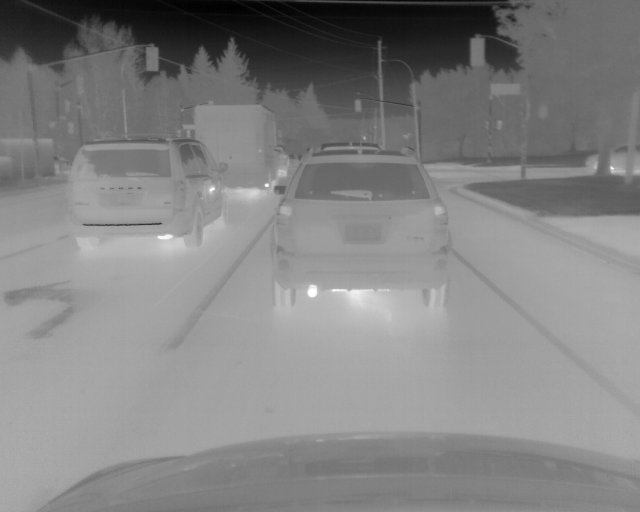car: (270, 142, 454, 310), (65, 135, 231, 248), (191, 103, 287, 191), (589, 144, 640, 176)
